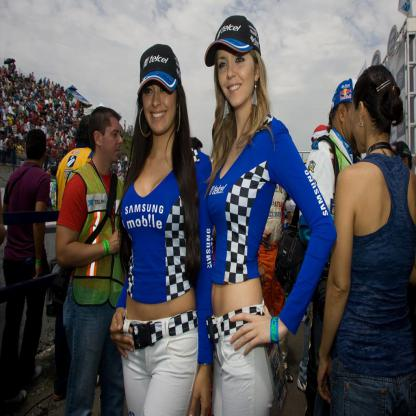face: (217, 43, 257, 110), (143, 78, 177, 135), (102, 121, 125, 165)
